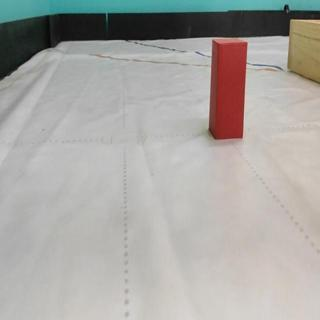redbox: (209, 38, 247, 141)
